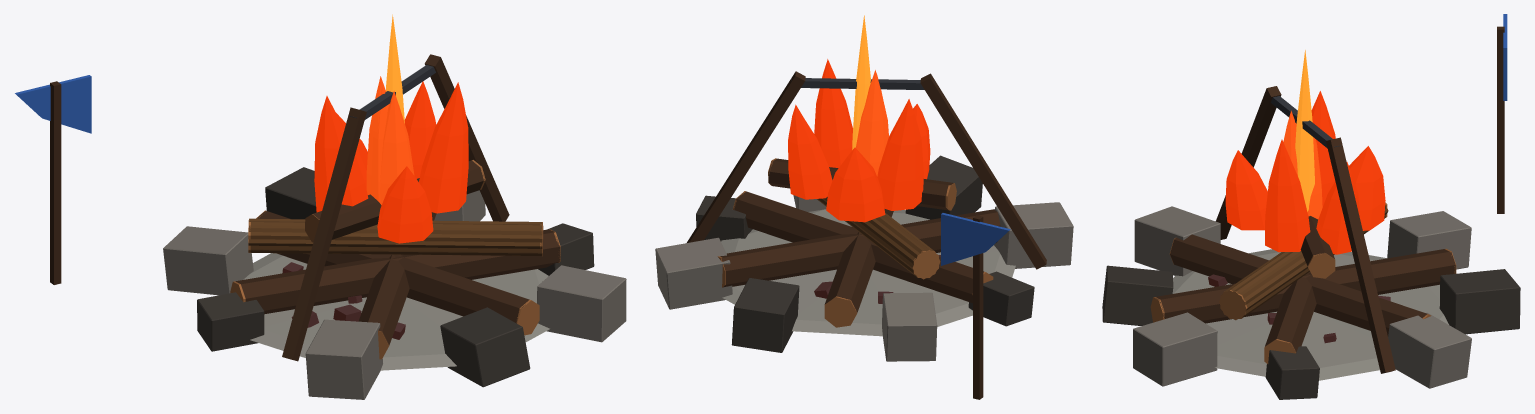
3 renders of one model, left to right at view 1: azimuth 30°, elevation 25°; view 2: azimuth 150°, elevation 25°; view 3: azimuth 270°, elevation 25°, orthographic. The views are drawn at different scales.
Visible parts, largest first — view 1: BF-wood_dark, BF-stone_mid, BF-flame_out, BF-stone_dark, BF-wood_mid, BF-ash, BF-ember, BF-team, BF-wood_warm, BF-coal, BF-flame_in, BF-iron; view 2: BF-wood_dark, BF-flame_out, BF-stone_mid, BF-stone_dark, BF-ash, BF-team, BF-wood_mid, BF-ember, BF-wood_warm, BF-flame_in, BF-iron; view 3: BF-wood_dark, BF-stone_mid, BF-flame_out, BF-stone_dark, BF-ash, BF-wood_mid, BF-wood_warm, BF-flame_in, BF-ember, BF-iron, BF-coal, BF-team.
Part boxes in pixels (bbox=[...]): BF-wood_dark: bbox=[50, 54, 560, 361]; BF-stone_mid: bbox=[163, 190, 626, 399]; BF-flame_out: bbox=[314, 81, 468, 243]; BF-stone_dark: bbox=[197, 167, 594, 387]; BF-wood_mid: bbox=[248, 218, 542, 255]; BF-ash: bbox=[243, 253, 549, 370]; BF-ember: bbox=[366, 76, 414, 205]; BF-team: bbox=[15, 75, 91, 133]; BF-wood_warm: bbox=[230, 160, 560, 359]; BF-coal: bbox=[282, 262, 405, 339]; BF-flame_in: bbox=[386, 14, 404, 123]; BF-iron: bbox=[350, 65, 435, 119]; BF-wood_dark: bbox=[687, 71, 1046, 399]; BF-flame_out: bbox=[788, 59, 930, 222]; BF-stone_mid: bbox=[655, 195, 1073, 361]; BF-stone_dark: bbox=[696, 155, 1034, 352]; BF-ash: bbox=[721, 209, 1015, 336]; BF-team: bbox=[941, 213, 1010, 265]; BF-wood_mid: bbox=[817, 197, 937, 277]; BF-ember: bbox=[855, 70, 888, 176]; BF-wood_warm: bbox=[717, 158, 993, 327]; BF-flame_in: bbox=[852, 15, 870, 149]; BF-iron: bbox=[791, 78, 934, 89]; BF-wood_dark: bbox=[1154, 26, 1504, 373]; BF-stone_mid: bbox=[1133, 206, 1471, 388]; BF-flame_out: bbox=[1225, 91, 1385, 254]; BF-stone_dark: bbox=[1102, 265, 1520, 399]; BF-ash: bbox=[1172, 249, 1448, 380]; BF-wood_mid: bbox=[1224, 204, 1387, 317]; BF-wood_warm: bbox=[1150, 202, 1456, 363]; BF-flame_in: bbox=[1295, 50, 1314, 211]; BF-ember: bbox=[1283, 110, 1322, 219]; BF-iron: bbox=[1271, 96, 1340, 148]; BF-coal: bbox=[1208, 274, 1390, 343]; BF-team: bbox=[1503, 14, 1507, 100].
Bounding box in the file's own units: 3.17 × 1.96 × 2.72.
